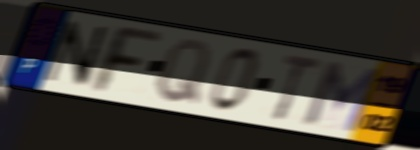0: (207, 45, 262, 114)
F: (90, 22, 165, 97)
M: (301, 58, 384, 136)
N: (42, 18, 110, 90)
Q: (153, 37, 214, 108)
T: (271, 51, 325, 124)
